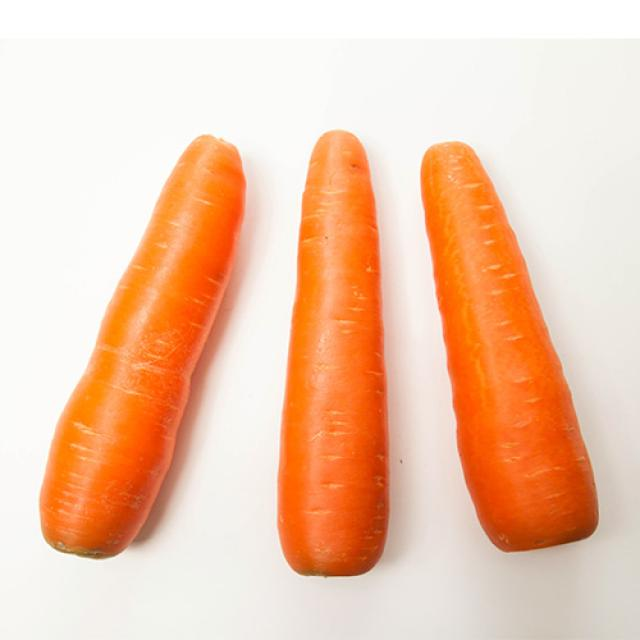carrot: (41, 133, 250, 563), (415, 140, 603, 558), (279, 125, 387, 580)
